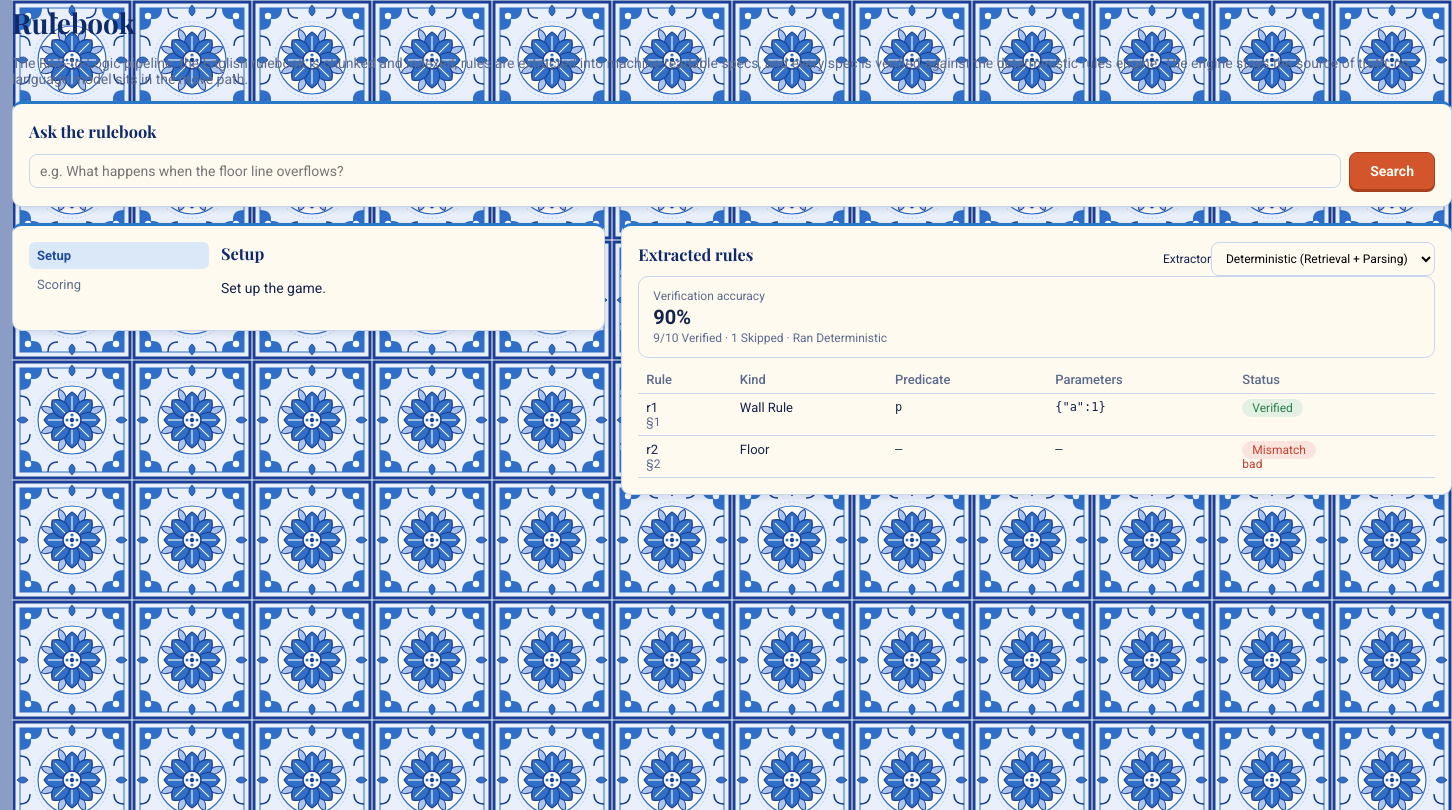
Test: Rulebook › browses sections and shows extracted rules
Expected: the text "Set up the game." is shown, left=221, top=280, right=326, bottom=296
Click the button "Scoring". click: [119, 284]
box: left=29, top=271, right=209, bottom=298
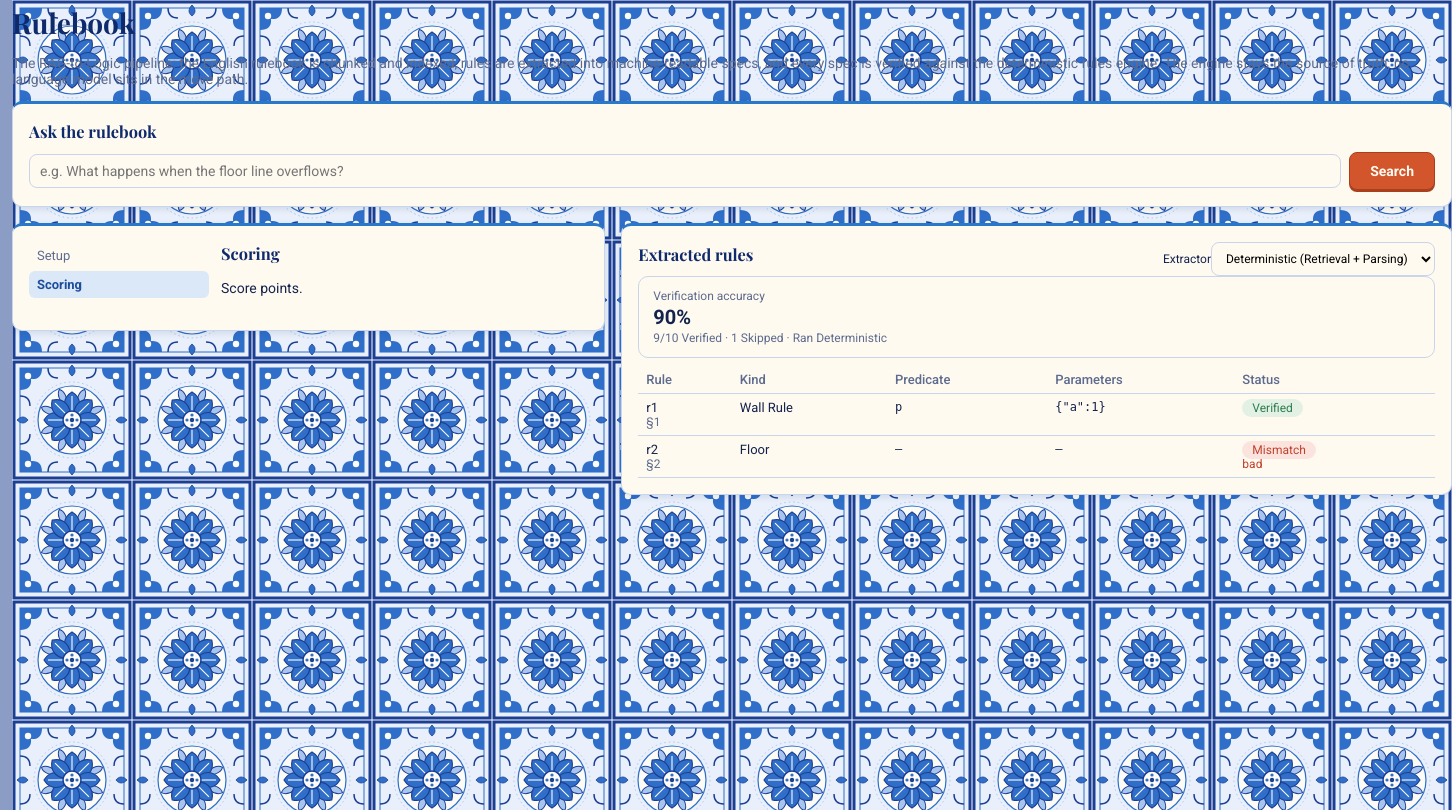
Expected: the text "Wall Rule" is shown, left=732, top=394, right=887, bottom=436
Expected: the text "Score points." is shown, left=221, top=280, right=303, bottom=296
